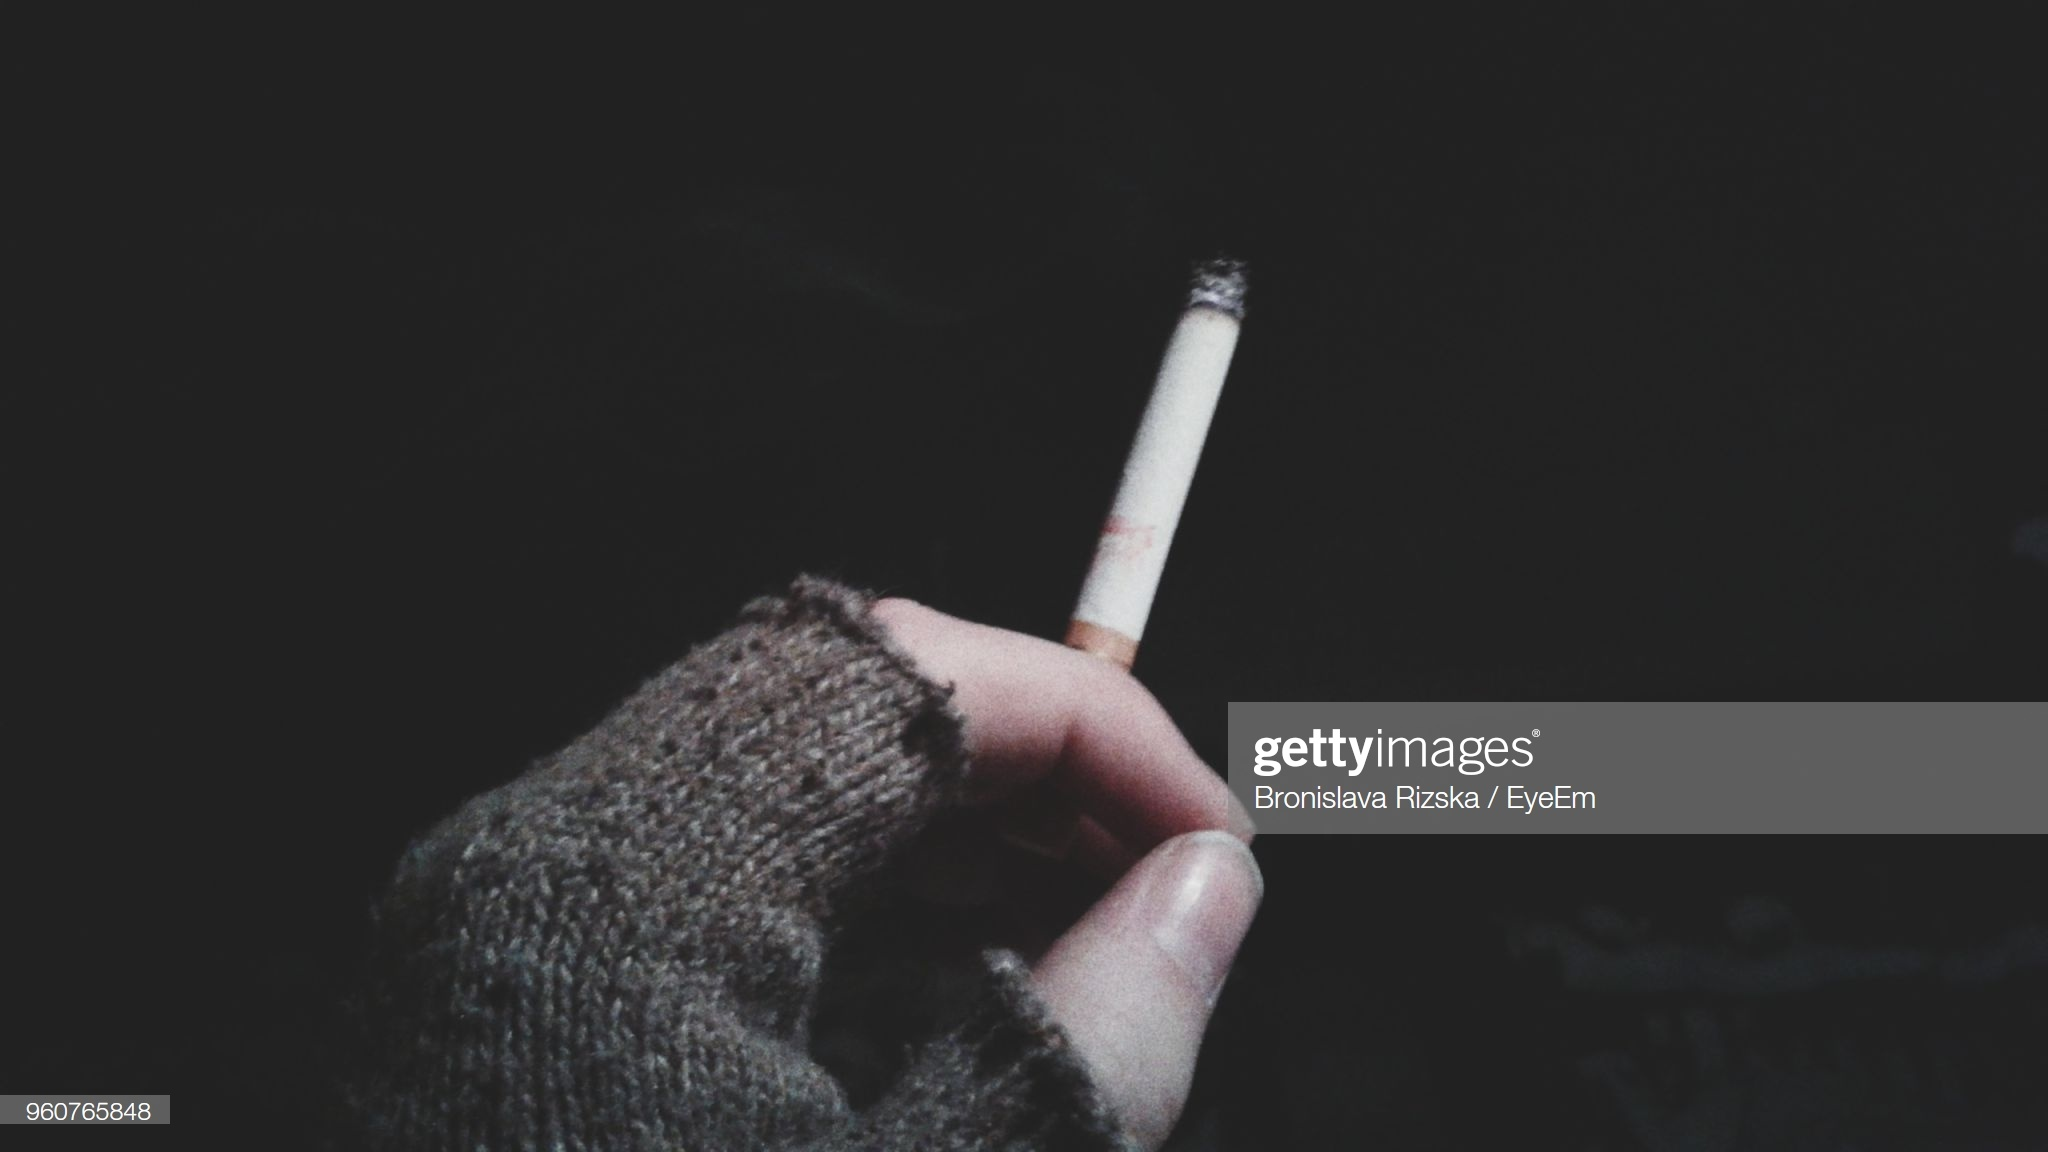sigaretta: (989, 246, 1300, 764)
